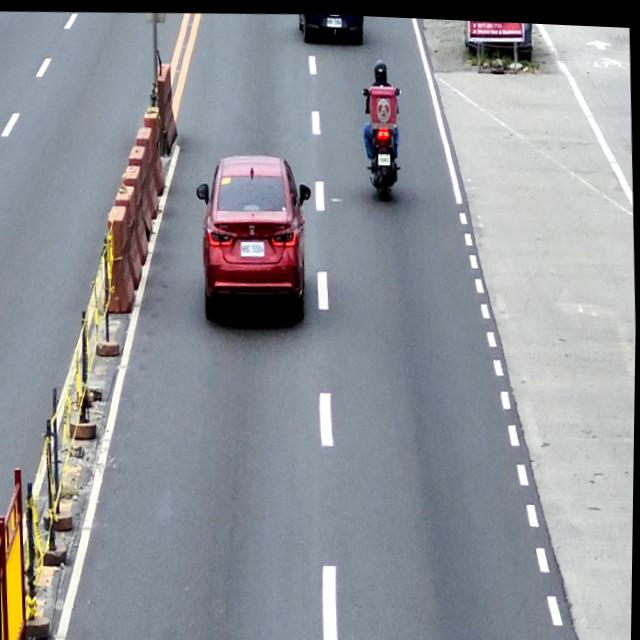Car: (194, 148, 316, 326), (297, 10, 364, 44)
License-Plate: (240, 237, 265, 255), (325, 13, 341, 24), (378, 149, 391, 162)
Motorcycle: (360, 80, 405, 197)
